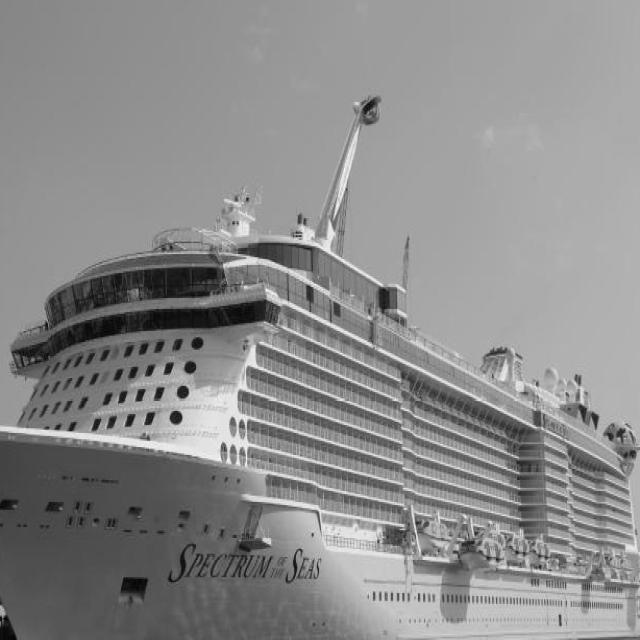cruises: (1, 181, 640, 640)
